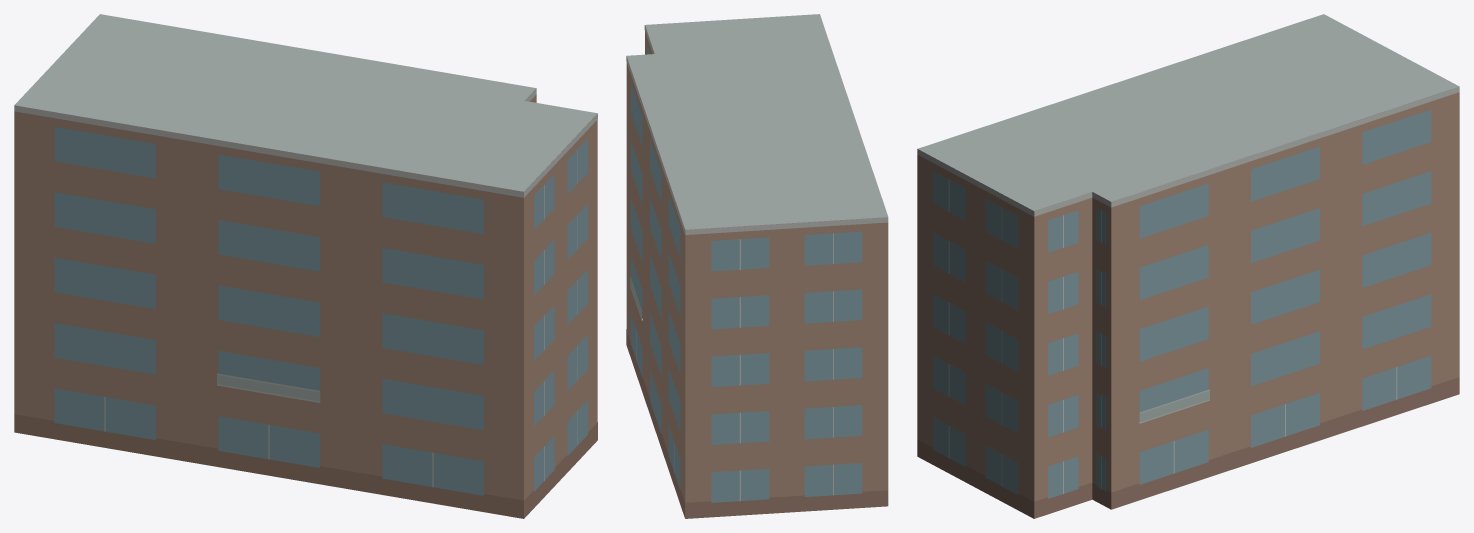
File: survey-upis-32797532.glb
3 renders of one model, left to right at view 1: azimuth 30°, elevation 25°; view 2: azimuth 150°, elevation 25°; view 3: azimuth 270°, elevation 25°, orthographic. The views are drawn at different scales.
Visible parts, largest first — view 1: survey-upis-32797532.tmp; view 2: survey-upis-32797532.tmp; view 3: survey-upis-32797532.tmp.
Part boxes in pixels (<box>): survey-upis-32797532.tmp: <box>14,14,597,518</box>; survey-upis-32797532.tmp: <box>626,14,888,518</box>; survey-upis-32797532.tmp: <box>917,14,1459,518</box>.
Size of the model in its own units: 18.2 by 13.24 by 21.15.
